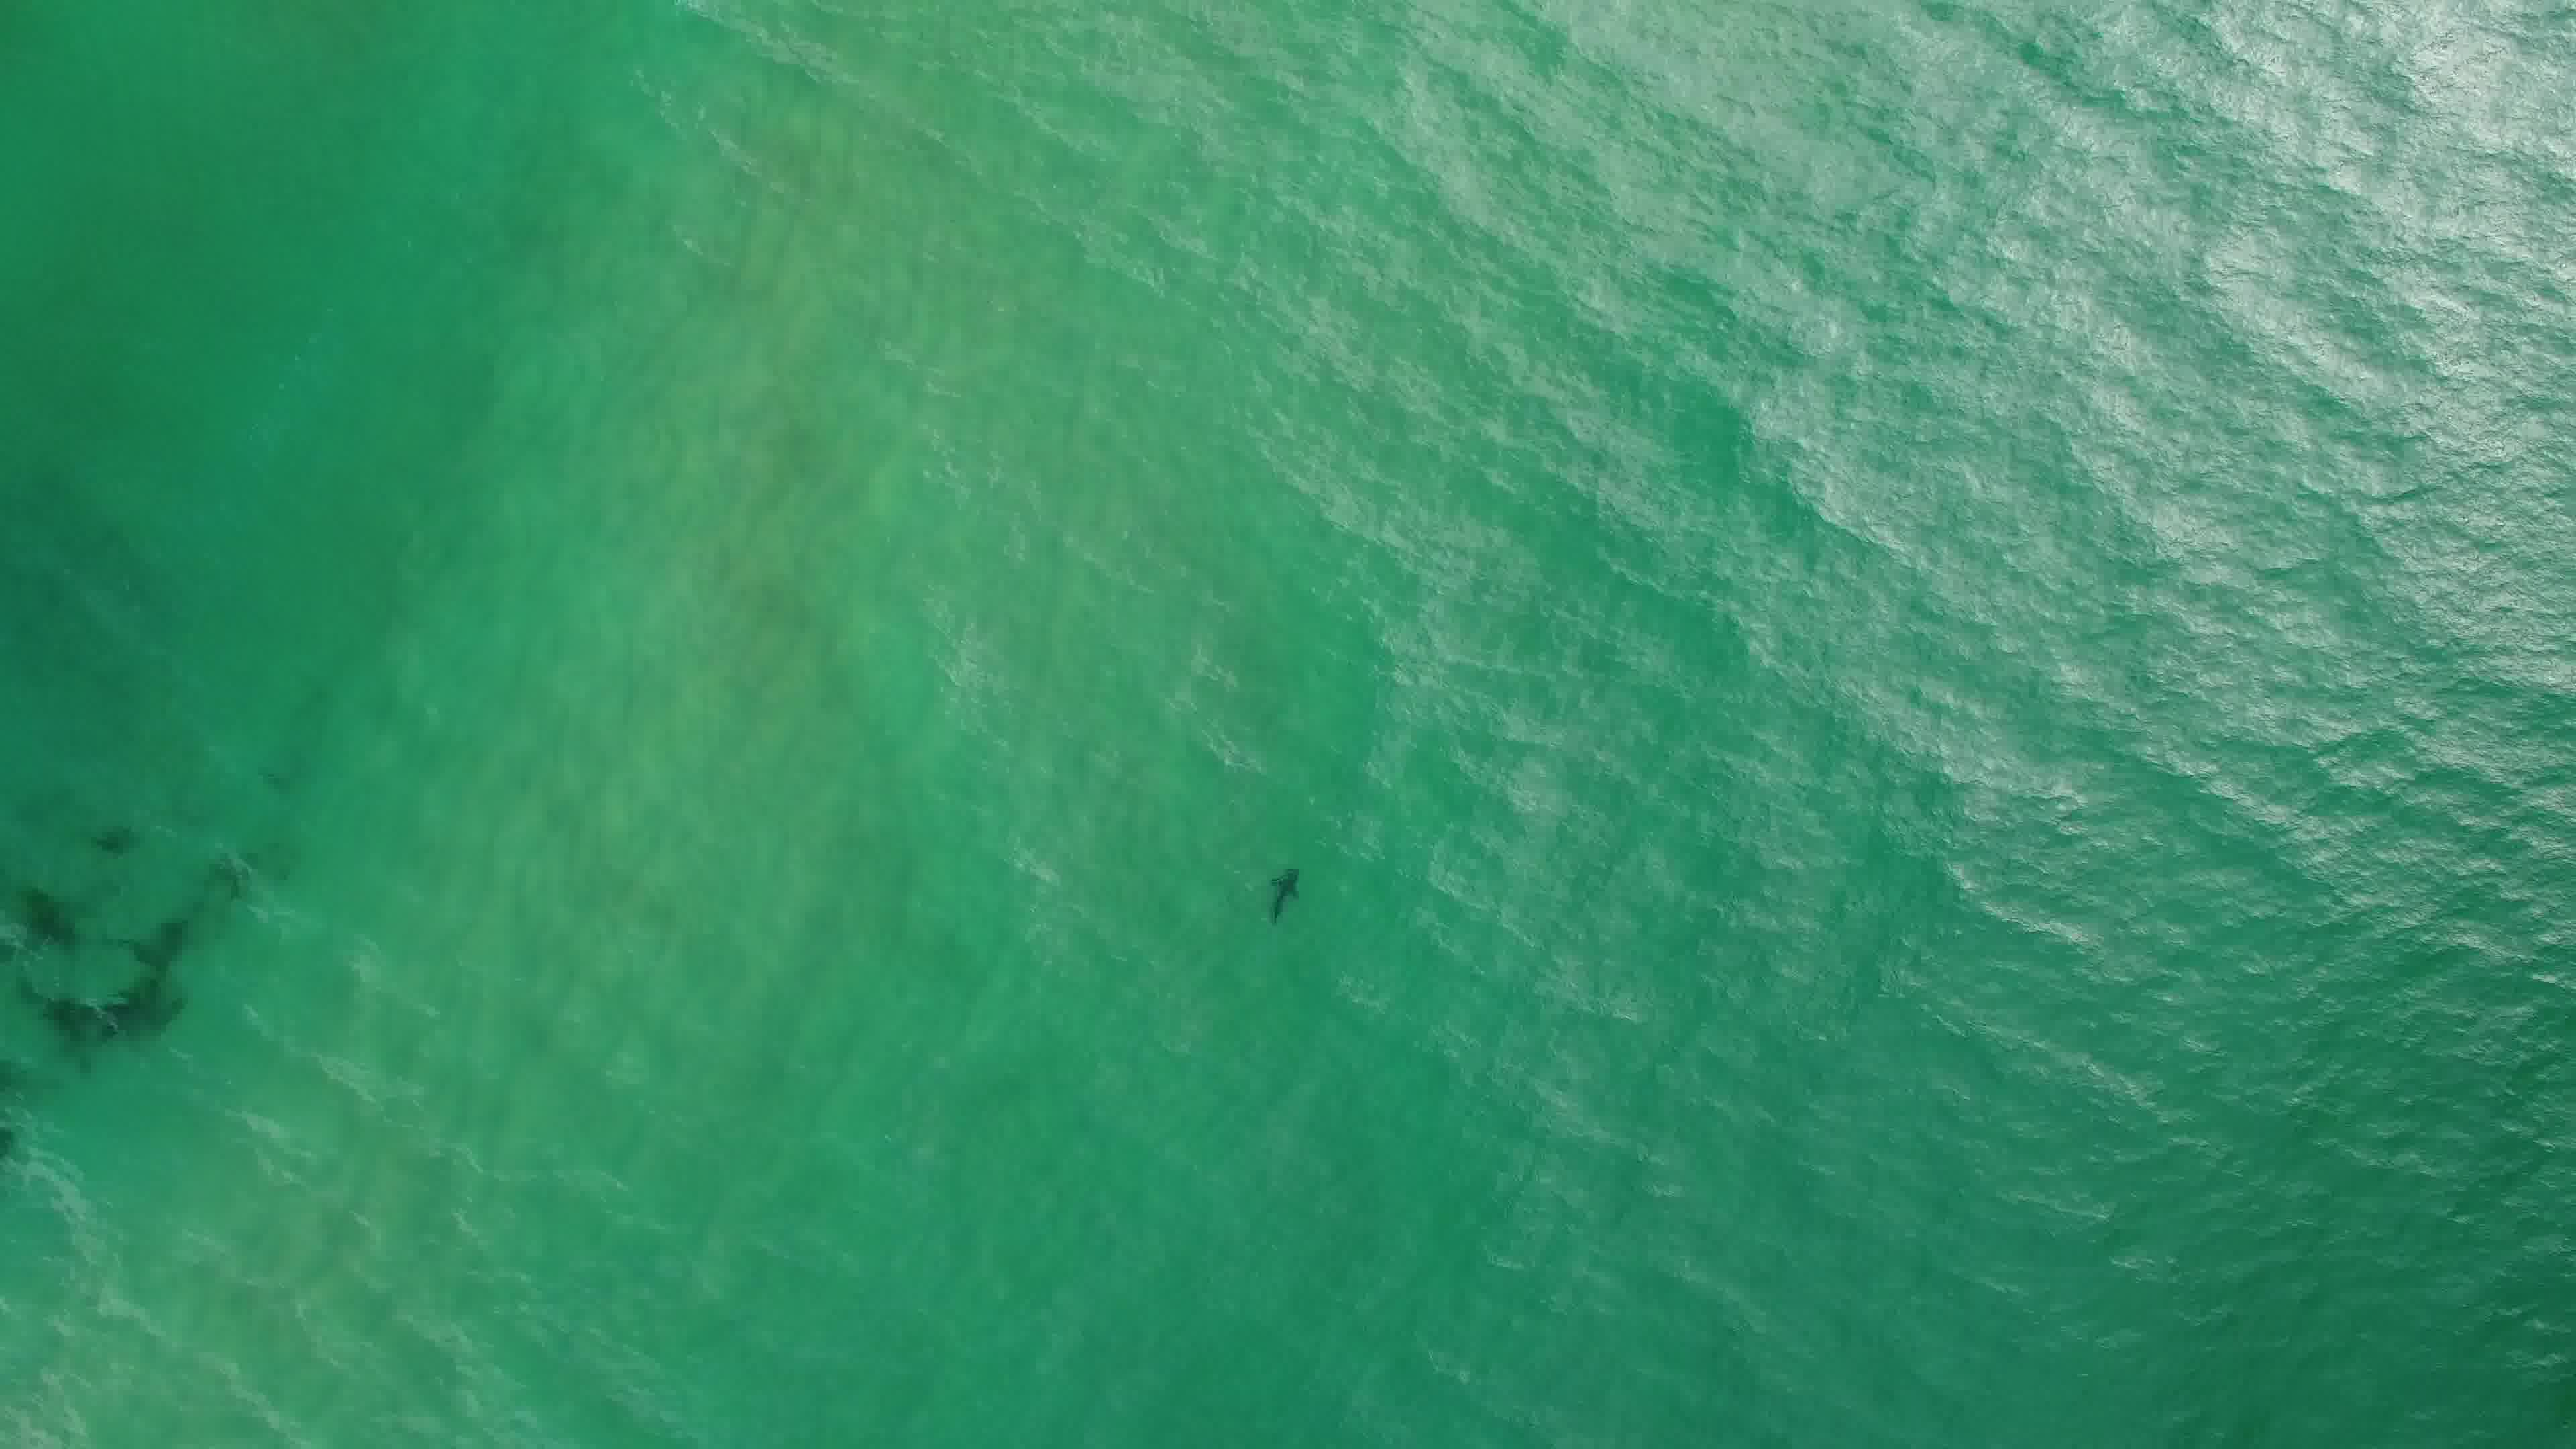shark: (1263, 862, 1309, 927)
